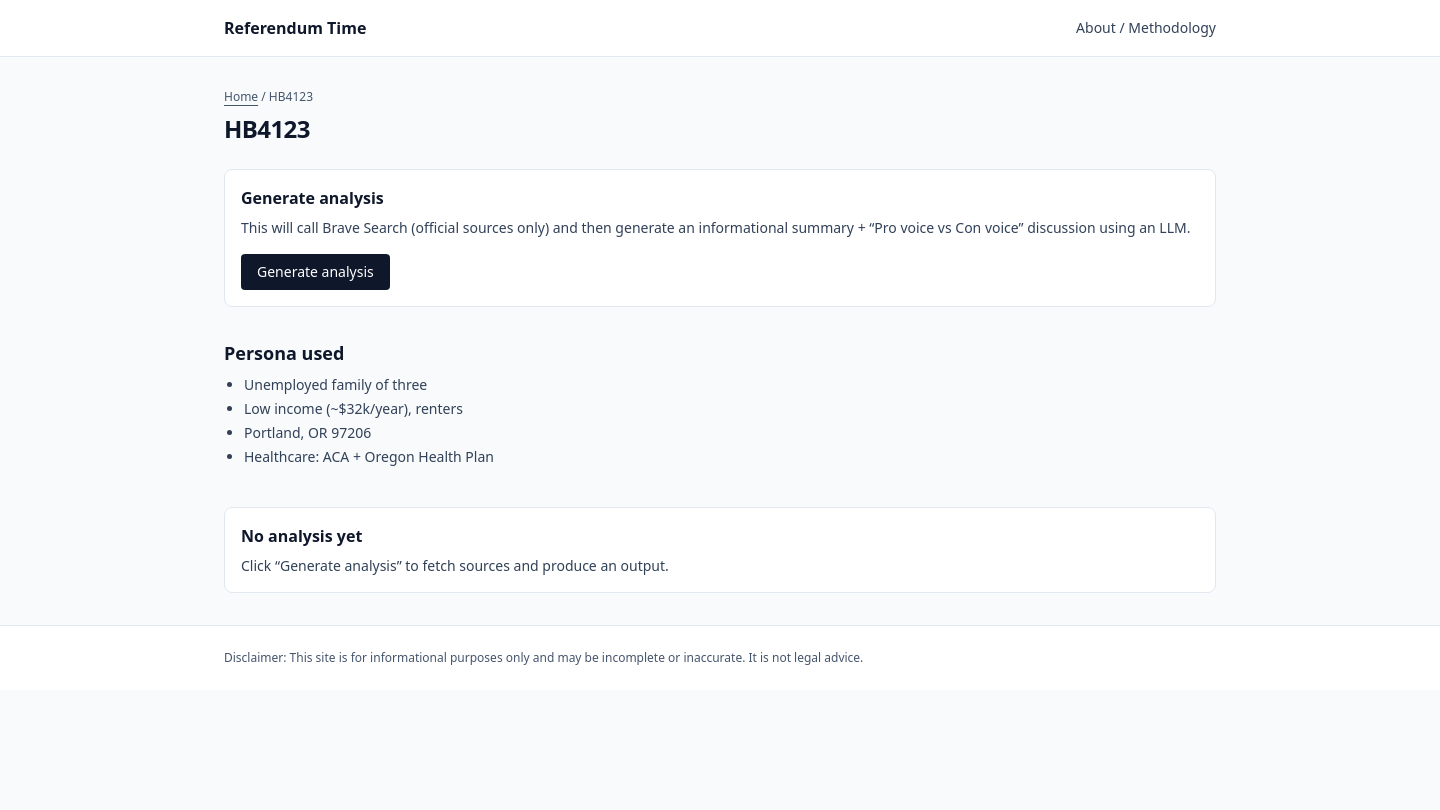
Test: BillPage › shows an error when fetch throws and clears loading state
What coordinates should you click on to do the following:
click the button "Generate analysis"
I would click on:
 (315, 272)
Its box is [241, 254, 390, 290].
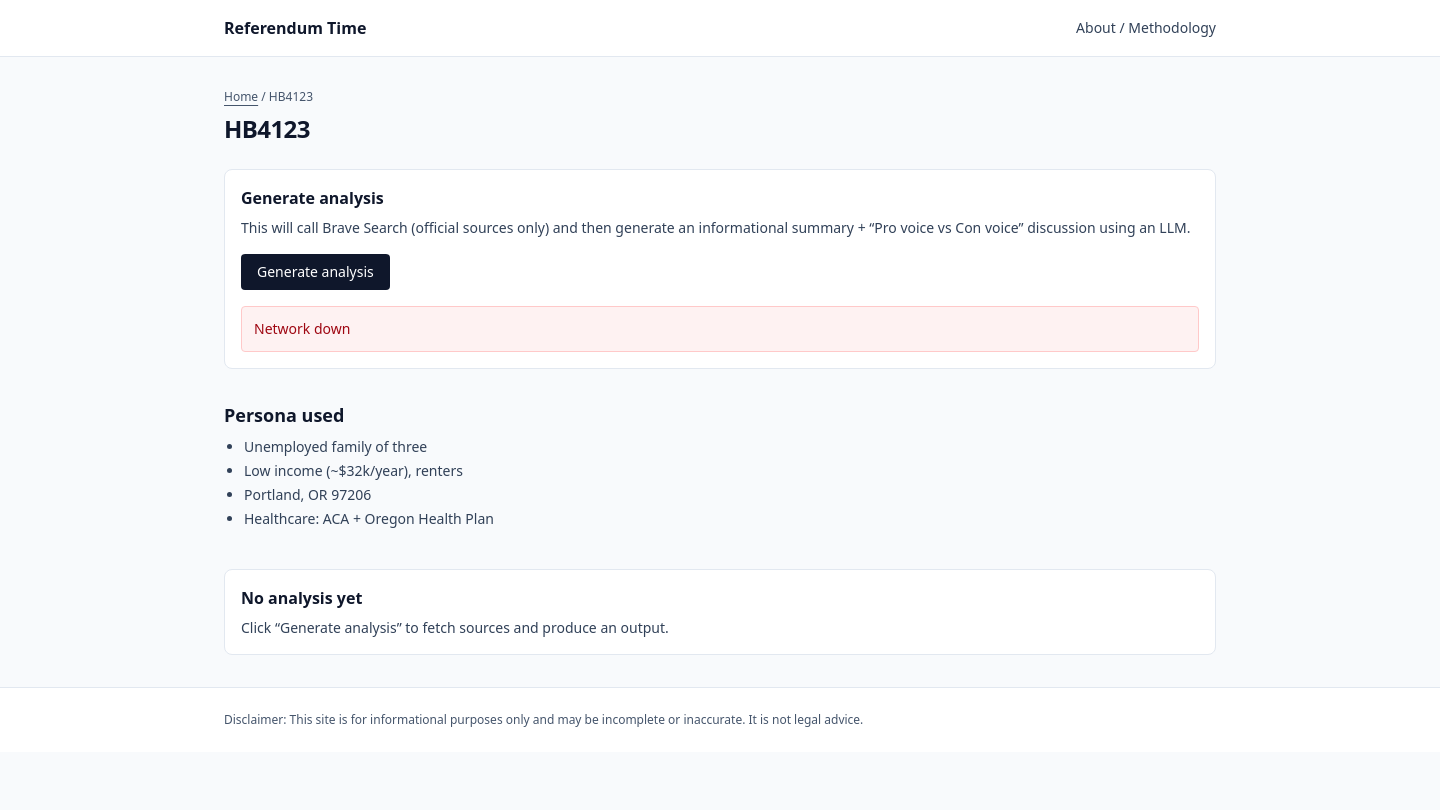
Check: the message reads "Network down", box [254, 319, 350, 338]
